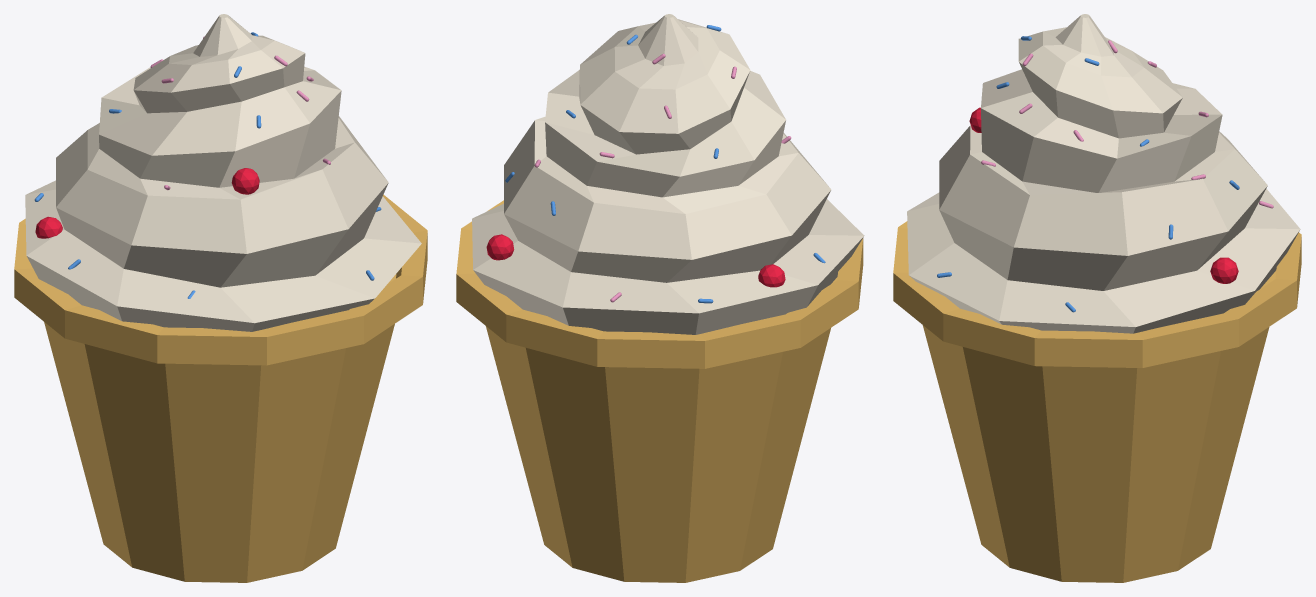
The model's file is IceCream2.fbx.
The picture shows the model from 3 angles, left to right: view 1: azimuth 30°, elevation 25°; view 2: azimuth 150°, elevation 25°; view 3: azimuth 270°, elevation 25°; orthographic projection.
Visible parts, largest first — view 1: IceCream, Biscuit, Icosphere.002; view 2: IceCream, Biscuit, Icosphere; view 3: IceCream, Biscuit, Icosphere, Roundcube.001.
Part boxes in pixels (bbox=[...]): IceCream: bbox=[25, 14, 421, 331]; Biscuit: bbox=[14, 194, 427, 582]; Icosphere.002: bbox=[231, 168, 259, 194]; IceCream: bbox=[472, 14, 864, 334]; Biscuit: bbox=[456, 200, 863, 582]; Icosphere: bbox=[486, 234, 514, 260]; IceCream: bbox=[907, 14, 1300, 333]; Biscuit: bbox=[893, 221, 1301, 582]; Icosphere: bbox=[1210, 257, 1238, 283]; Roundcube.001: bbox=[981, 40, 1273, 208].
Bounding box in the file's own units: 271 × 379 × 271.
